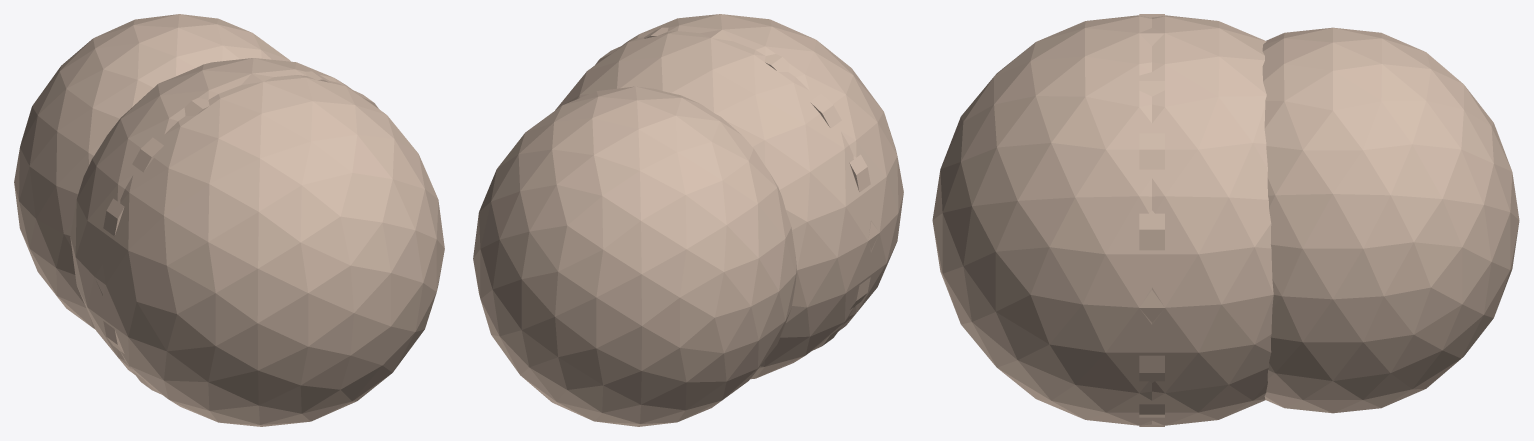
File: phoboman_left_lower_arm.glb
3 renders of one model, left to right at view 1: azimuth 30°, elevation 25°; view 2: azimuth 150°, elevation 25°; view 3: azimuth 270°, elevation 25°, orthographic. The views are drawn at different scales.
Visible parts, largest first — view 1: world; view 2: world; view 3: world.
Part boxes in pixels (x1=…): world: x1=14, y1=14, x2=444, y2=426; world: x1=473, y1=14, x2=903, y2=426; world: x1=932, y1=14, x2=1519, y2=426.
Bounding box in the file's own units: 0.16 × 0.16 × 0.2272.
